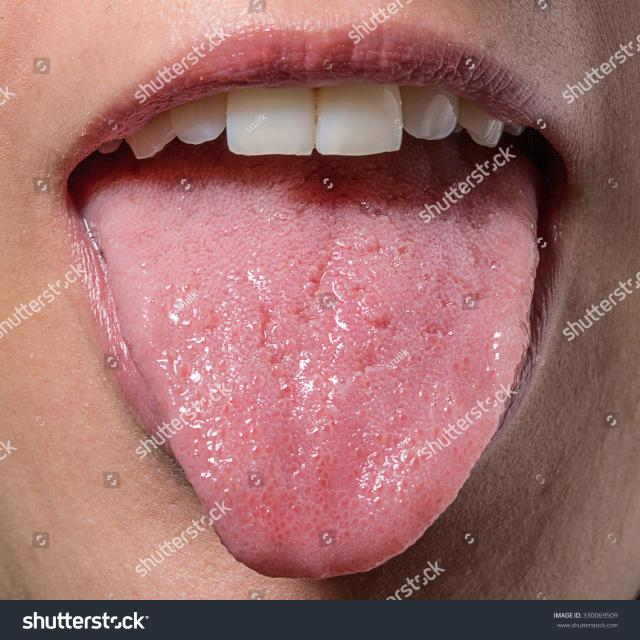baitaishe: (81, 158, 540, 580)
